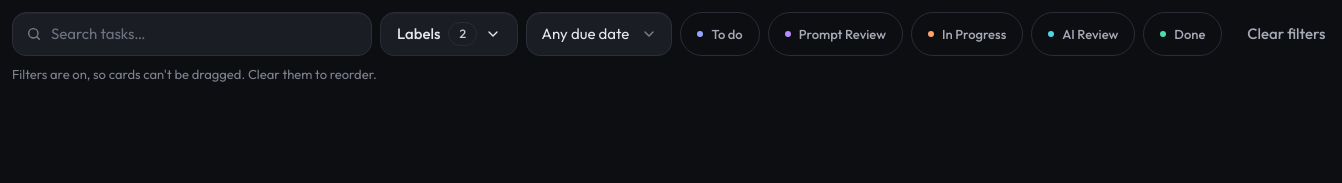
Test case: FilterBar › shows how many labels are chosen, and closes the menu with Escape
Click the button with aria-label "Labels, 2 chosen": point(449, 34) [380,12,518,56]
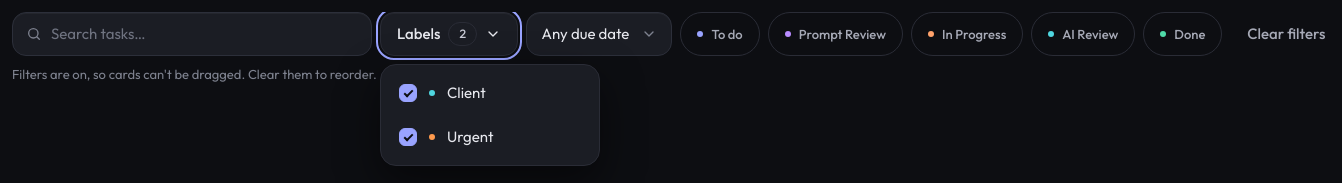
Now the checkbox labelled "Client" is checked, box [399,84,417,102]
Press Escape
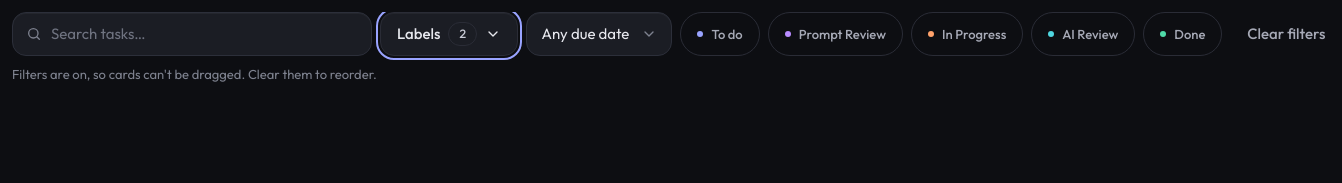
Now the text "Client" is gone
